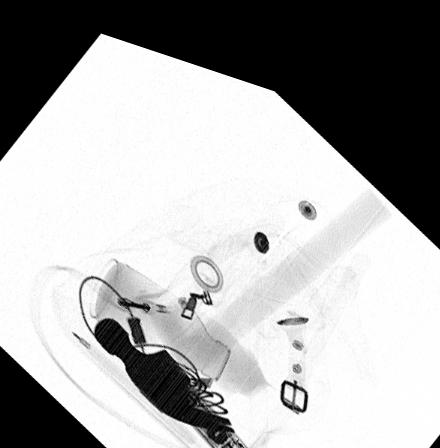Hammer: (93, 160, 394, 418)
